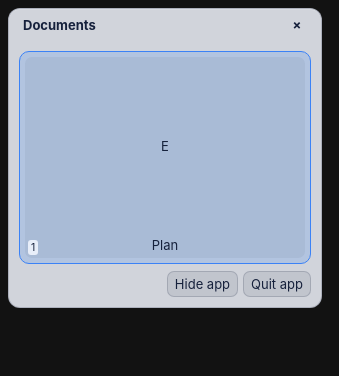
Test: hides only the selected rendered window and displays current RPC refusal
What coordinates should you click on to do the following:
click the button "Hide app"
I would click on:
 (202, 284)
Its box is x1=167 y1=271 x2=238 y2=297.
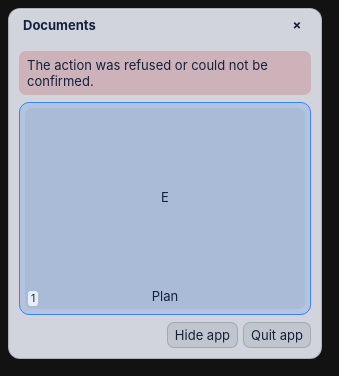
Now the message reads "The action was refused or could not be confirmed.", box x1=27 y1=57 x2=268 y2=89
